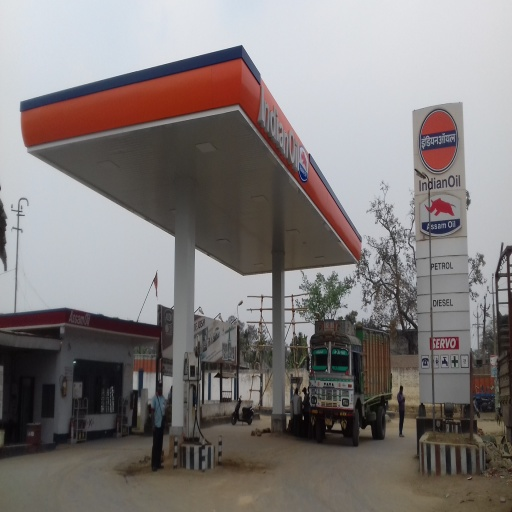roof: (21, 46, 365, 277)
